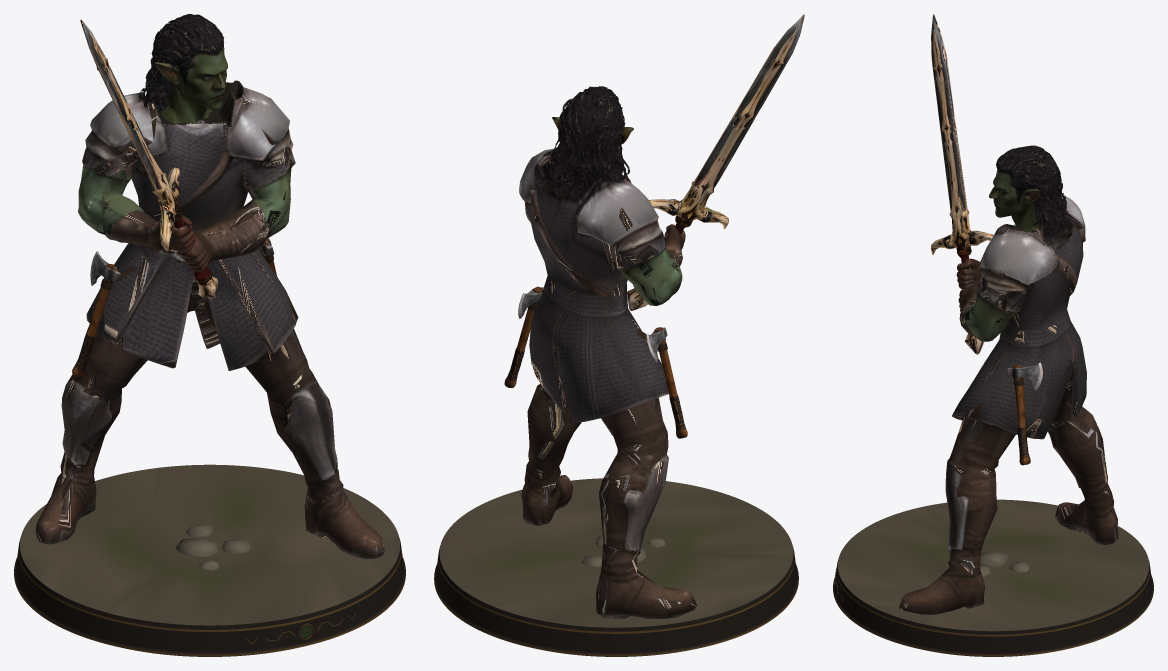
The model's file is druk-battlefield-765c69ae3d10.glb.
The picture shows the model from 3 angles, left to right: view 1: azimuth 30°, elevation 25°; view 2: azimuth 150°, elevation 25°; view 3: azimuth 270°, elevation 25°; orthographic projection. The views are drawn at different scales.
Visible parts, largest first — view 1: DrukV9_Dense_Body_REVIEW_CANDIDATE, Druk_Base_Earthy_Stone_Moss_Top, Druk_Base_Rim_3, Druk_Natural_Multiview_Head, DrukV7_Approved_BoneSword, Druk_Base_Rim_5, DrukV9_Right_Hip_Handaxe, Druk_Base_Rim_2, Druk_Base_Brass_4, Druk_Base_Brass_1, DrukV9_Recessed_Front_Neck_Closure, DrukV9_Lowered_Left_Hand (+2 smaller); view 2: DrukV9_Dense_Body_REVIEW_CANDIDATE, Druk_Base_Earthy_Stone_Moss_Top, Druk_Base_Rim_3, Druk_Natural_Multiview_Head, DrukV7_Approved_BoneSword, DrukV9_Pinned_Rear_Neck_Repair, Druk_Base_Rim_5, DrukV9_Right_Hip_Handaxe, DrukV9_Left_Hip_Handaxe, Druk_Base_Rim_2, Druk_Base_Brass_4, Druk_Base_Brass_1; view 3: DrukV9_Dense_Body_REVIEW_CANDIDATE, Druk_Base_Earthy_Stone_Moss_Top, Druk_Base_Rim_3, Druk_Natural_Multiview_Head, DrukV7_Approved_BoneSword, Druk_Base_Rim_5, DrukV9_Left_Hip_Handaxe, DrukV9_Pinned_Rear_Neck_Repair, Druk_Base_Rim_2, Druk_Base_Brass_4, Druk_Base_Brass_1, DrukV9_Lowered_Right_Hand.
Boxes of the visible parts, x1,y1,x2,y2 form: DrukV9_Dense_Body_REVIEW_CANDIDATE: [35, 81, 385, 558]; Druk_Base_Earthy_Stone_Moss_Top: [19, 464, 400, 625]; Druk_Base_Rim_3: [15, 551, 404, 652]; Druk_Natural_Multiview_Head: [139, 14, 227, 124]; DrukV7_Approved_BoneSword: [80, 19, 218, 299]; Druk_Base_Rim_5: [18, 539, 401, 629]; DrukV9_Right_Hip_Handaxe: [72, 251, 120, 378]; Druk_Base_Rim_2: [14, 557, 405, 654]; Druk_Base_Brass_4: [18, 548, 401, 631]; Druk_Base_Brass_1: [14, 575, 405, 656]; DrukV9_Recessed_Front_Neck_Closure: [138, 80, 243, 126]; DrukV9_Lowered_Left_Hand: [178, 233, 210, 271]; DrukV9_Dense_Body_REVIEW_CANDIDATE: [519, 148, 696, 618]; Druk_Base_Earthy_Stone_Moss_Top: [439, 478, 793, 627]; Druk_Base_Rim_3: [435, 556, 797, 652]; Druk_Natural_Multiview_Head: [548, 86, 633, 191]; DrukV7_Approved_BoneSword: [627, 14, 804, 310]; DrukV9_Pinned_Rear_Neck_Repair: [529, 162, 637, 223]; Druk_Base_Rim_5: [438, 546, 794, 631]; DrukV9_Right_Hip_Handaxe: [646, 327, 687, 438]; DrukV9_Left_Hip_Handaxe: [504, 286, 543, 387]; Druk_Base_Rim_2: [434, 564, 798, 654]; Druk_Base_Brass_4: [438, 554, 794, 633]; Druk_Base_Brass_1: [434, 578, 798, 656]; DrukV9_Dense_Body_REVIEW_CANDIDATE: [899, 216, 1118, 614]; Druk_Base_Earthy_Stone_Moss_Top: [837, 499, 1149, 631]; Druk_Base_Rim_3: [834, 569, 1152, 653]; Druk_Natural_Multiview_Head: [989, 145, 1068, 232]; DrukV7_Approved_BoneSword: [931, 14, 993, 354]; Druk_Base_Rim_5: [836, 560, 1150, 634]; DrukV9_Left_Hip_Handaxe: [1007, 362, 1042, 465]; DrukV9_Pinned_Rear_Neck_Repair: [1043, 195, 1083, 256]; Druk_Base_Rim_2: [833, 575, 1153, 654]; Druk_Base_Brass_4: [836, 567, 1150, 636]; Druk_Base_Brass_1: [833, 590, 1153, 656]; DrukV9_Lowered_Right_Hand: [956, 258, 980, 289].
Bounding box in the file's own units: 1.36 × 2.39 × 1.36.
Materials: 24 (10 with a texture image).
